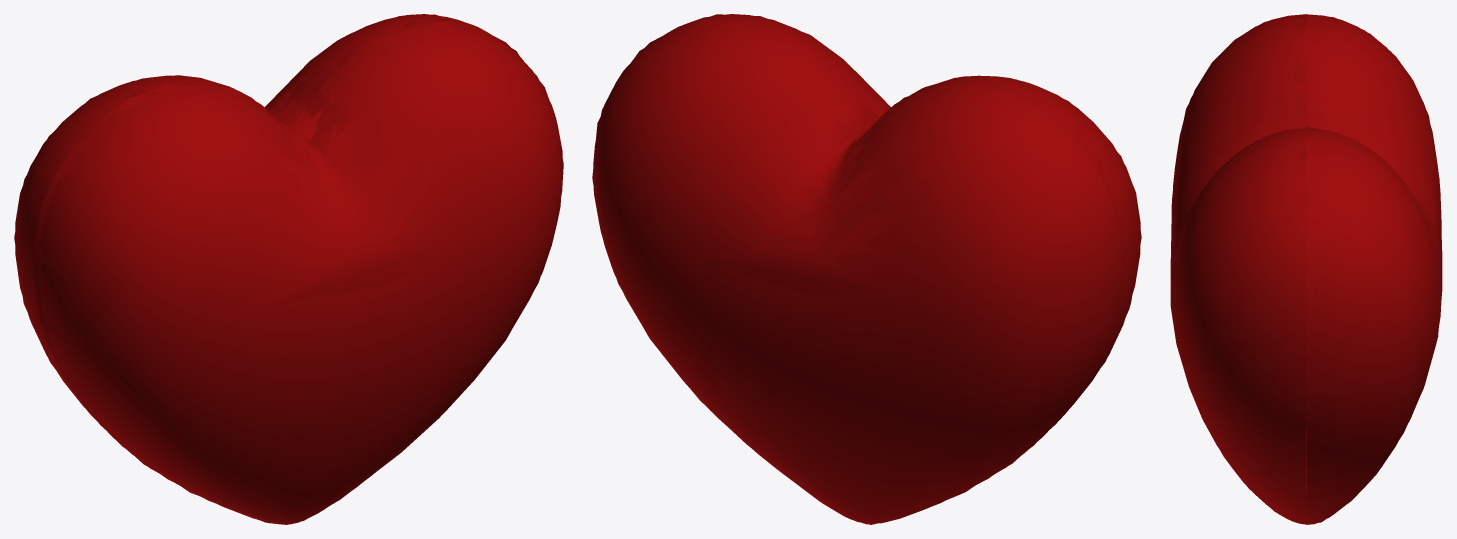
3 views of the same model, side by side, from view 1: azimuth 30°, elevation 25°; view 2: azimuth 150°, elevation 25°; view 3: azimuth 270°, elevation 25° (orthographic). The views are drawn at different scales.
Visible parts, largest first — view 1: BASE HEART_Material #41_0, BASE HEART_Material #41_0.002, BASE HEART_Material #41_0.001; view 2: BASE HEART_Material #41_0, BASE HEART_Material #41_0.001, BASE HEART_Material #41_0.002; view 3: BASE HEART_Material #41_0, BASE HEART_Material #41_0.001, BASE HEART_Material #41_0.002.
Boxes of the visible parts, x1,y1,x2,y2 form: BASE HEART_Material #41_0: (15, 14, 562, 524); BASE HEART_Material #41_0.002: (14, 14, 563, 524); BASE HEART_Material #41_0.001: (15, 14, 562, 524); BASE HEART_Material #41_0: (593, 14, 1140, 523); BASE HEART_Material #41_0.001: (594, 14, 1137, 524); BASE HEART_Material #41_0.002: (592, 14, 1141, 524); BASE HEART_Material #41_0: (1170, 14, 1442, 524); BASE HEART_Material #41_0.001: (1170, 14, 1442, 524); BASE HEART_Material #41_0.002: (1170, 14, 1442, 522).
Bounding box in the file's own units: 26.76 × 23.31 × 13.14.
